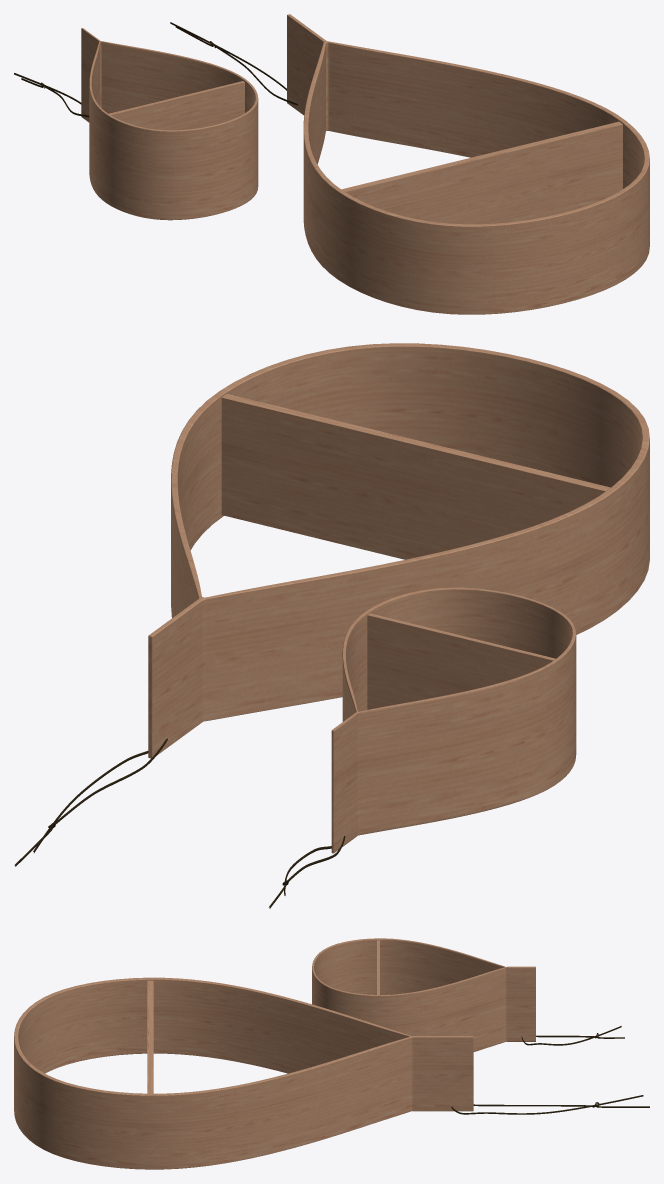
File: teardropshelf.gltf
The picture shows the model from 3 angles, top to bottom: view 1: azimuth 30°, elevation 25°; view 2: azimuth 150°, elevation 25°; view 3: azimuth 270°, elevation 25°; orthographic projection. The views are drawn at different scales.
Visible parts, largest first — view 1: teardropshelf2; view 2: teardropshelf2; view 3: teardropshelf2.
Part boxes in pixels (left/top/right/bottom): teardropshelf2: left=14, top=14, right=649, bottom=314; teardropshelf2: left=14, top=343, right=649, bottom=908; teardropshelf2: left=14, top=938, right=649, bottom=1169.
Bounding box in the file's own units: 0.5039 × 0.1136 × 0.8632.
1 material, 1 textured.
